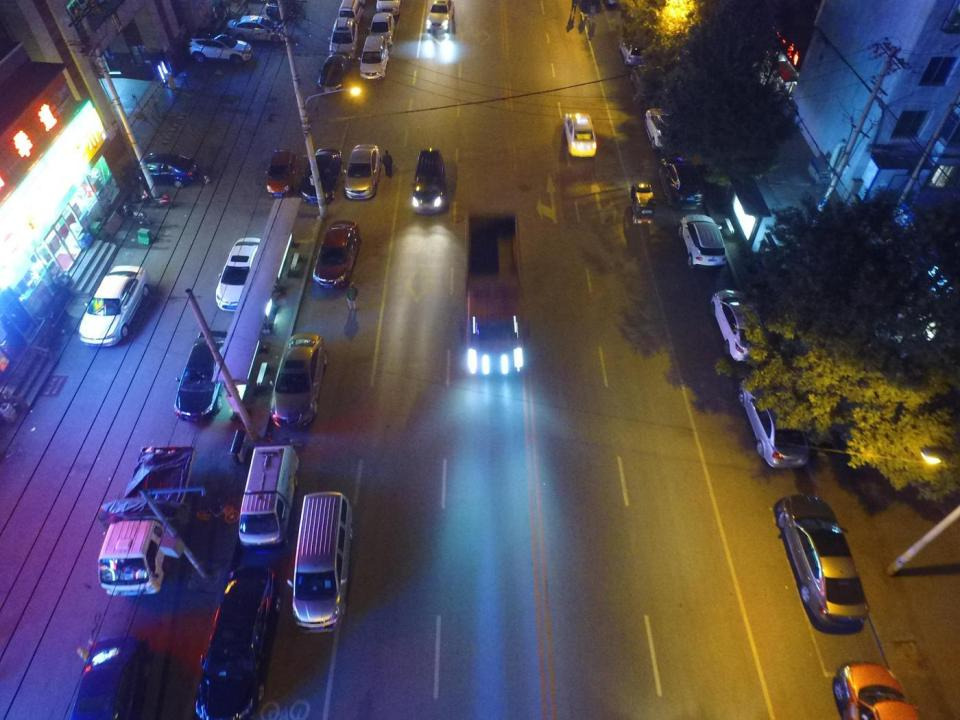car: (774, 494, 872, 630), (738, 378, 812, 468), (270, 331, 328, 429), (79, 266, 149, 346), (832, 659, 922, 719), (174, 330, 231, 420), (711, 290, 767, 364), (213, 238, 264, 309), (314, 217, 359, 290), (680, 212, 728, 273), (657, 158, 705, 213), (300, 149, 344, 206), (134, 154, 202, 188), (620, 26, 668, 68), (348, 142, 379, 202), (414, 150, 444, 212), (189, 35, 251, 64), (646, 106, 683, 154), (228, 16, 286, 44), (565, 111, 598, 158), (268, 149, 295, 198), (631, 63, 665, 101), (328, 18, 358, 56), (316, 54, 346, 89), (631, 182, 655, 225), (426, 0, 456, 34), (369, 13, 394, 47), (263, 1, 297, 20), (376, 0, 402, 19)
truck: (97, 445, 197, 595), (462, 214, 527, 376)
van: (197, 564, 279, 717), (291, 490, 354, 634), (71, 637, 155, 719), (237, 446, 300, 550), (359, 35, 388, 80), (340, 0, 363, 23)
